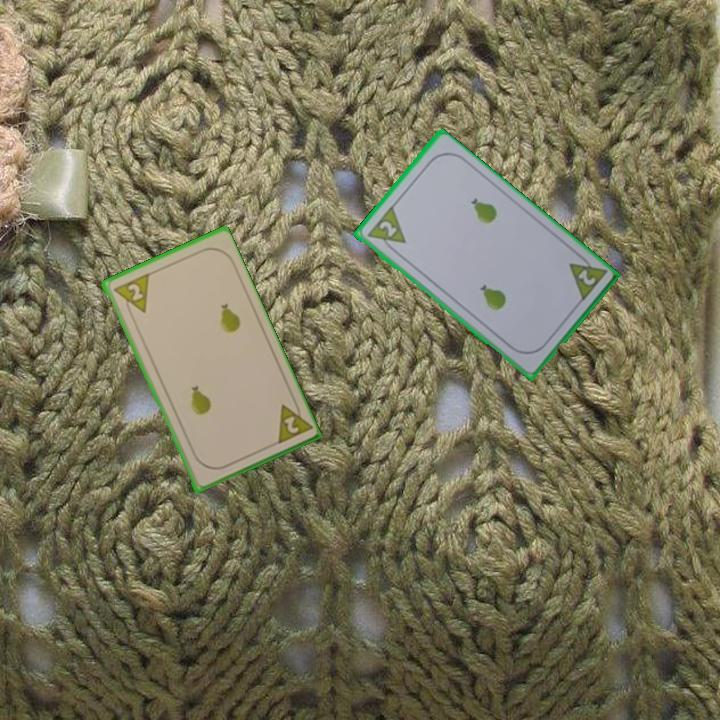2p: (363, 203, 409, 257), (565, 249, 609, 305), (109, 270, 152, 320), (280, 412, 302, 436)
